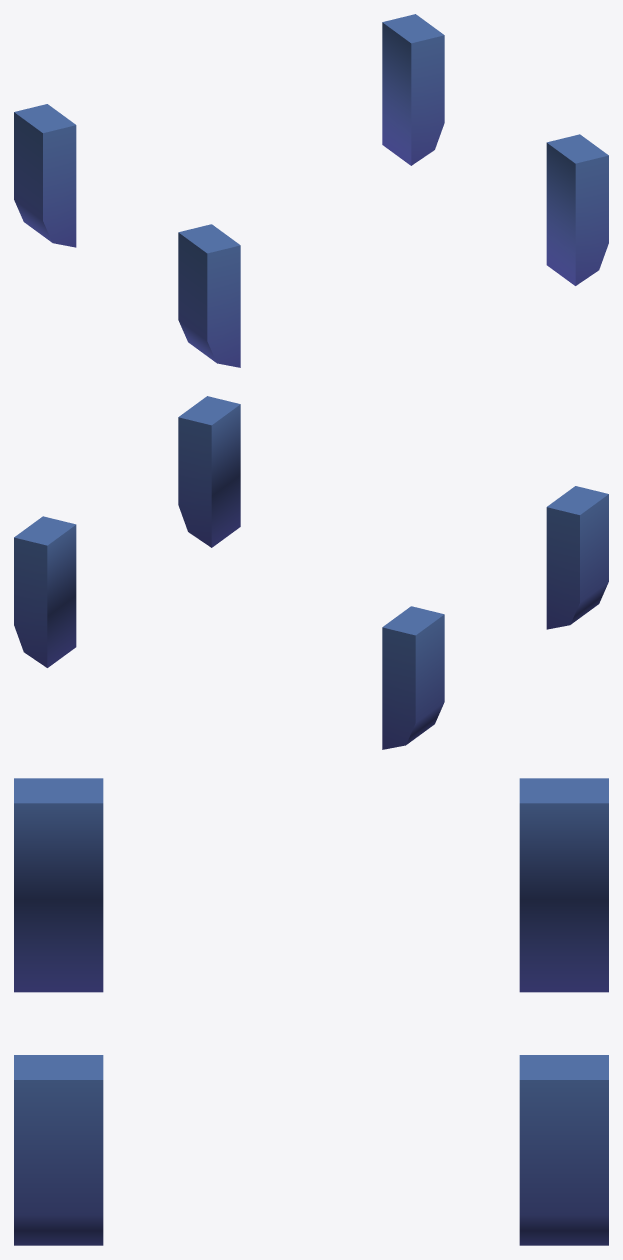
Rendered from supports-clamp.glb.
The picture shows the model from 3 angles, top to bottom: view 1: azimuth 30°, elevation 25°; view 2: azimuth 150°, elevation 25°; view 3: azimuth 270°, elevation 25°; orthographic projection. The views are drawn at different scales.
Parts seen in each view (by area): view 1: supports-clamp; view 2: supports-clamp; view 3: supports-clamp.
Part boxes in pixels (x1,y1,x2,y2): supports-clamp: (14,14,608,367); supports-clamp: (14,396,608,749); supports-clamp: (14,778,608,1245).
Bounding box in the file's own units: 1.2 × 0.35 × 1.
